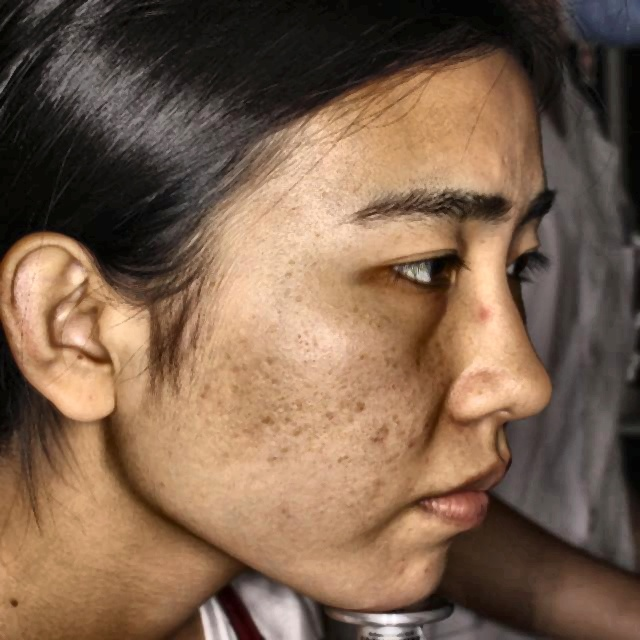comedone: (467, 302, 506, 329), (404, 424, 413, 455)
